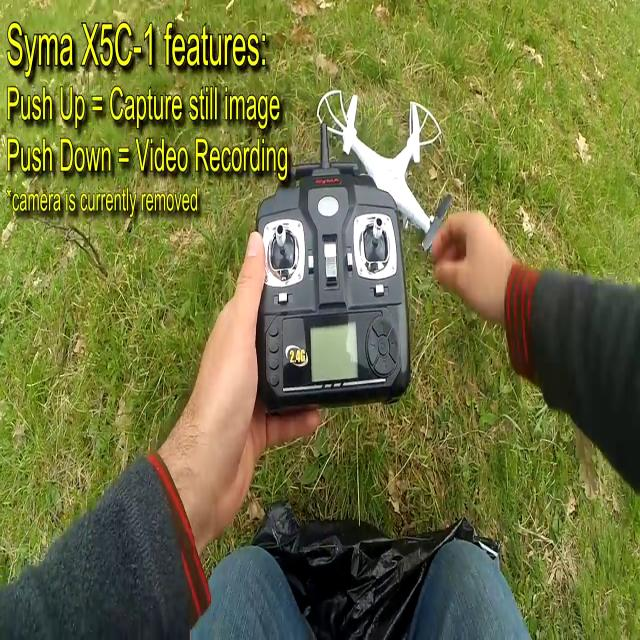drones: (311, 79, 453, 262)
